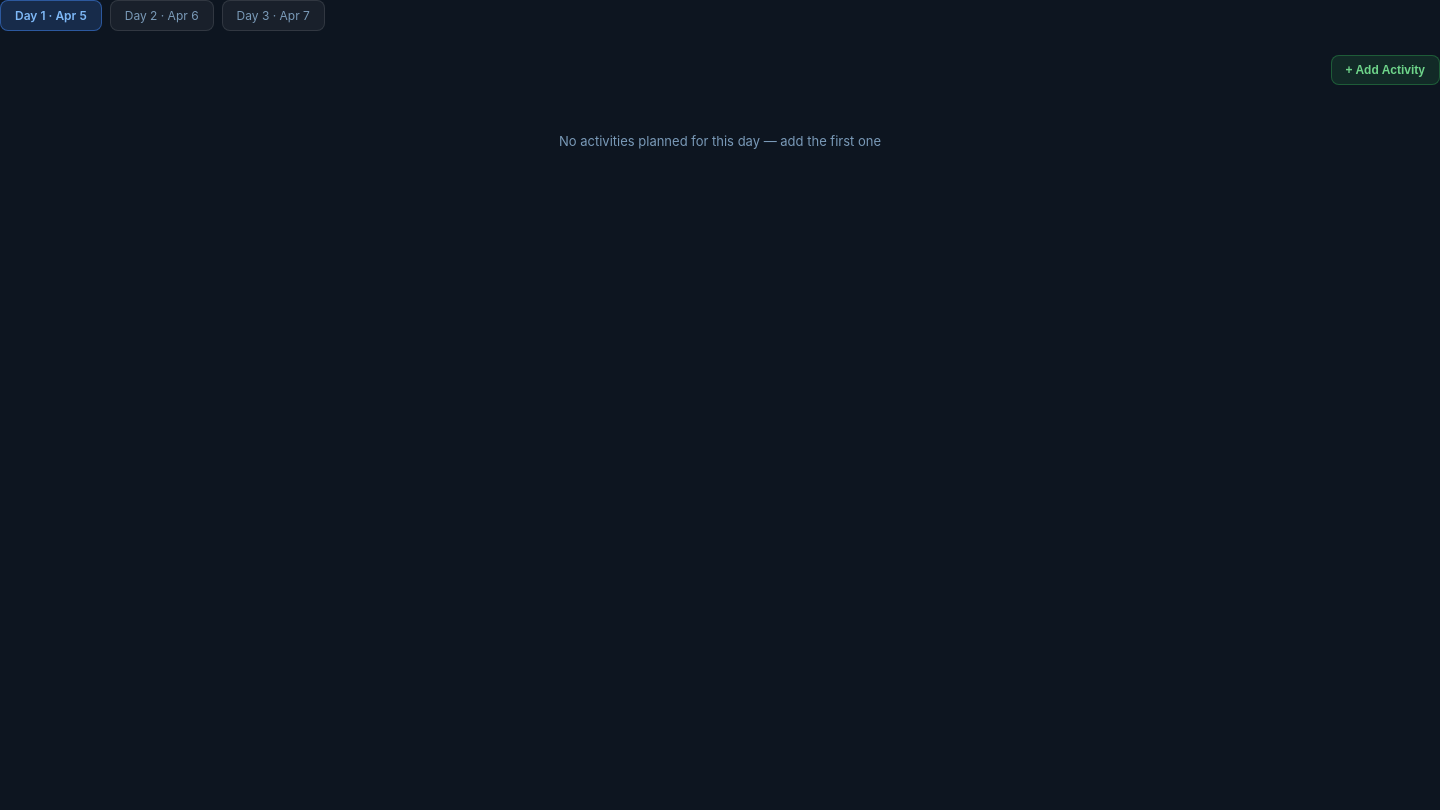
ItineraryTab integration › opens add form when "+ Add Activity" is clicked
Click the button with test id "add-activity-btn" at (1385, 70), box [1330,55,1439,85]
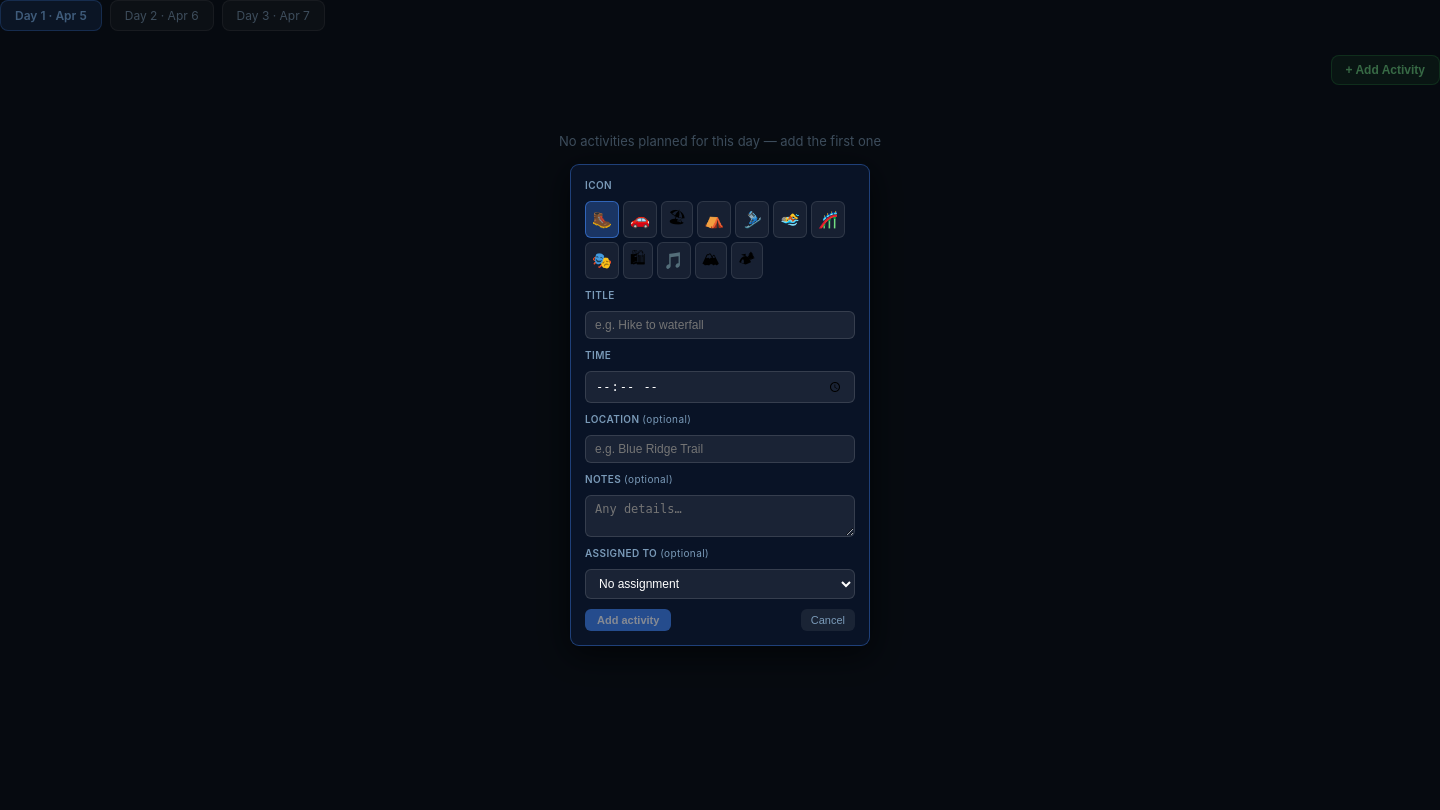
Result: the element with test id "activity-edit-form" is shown at [570,164,870,646]
